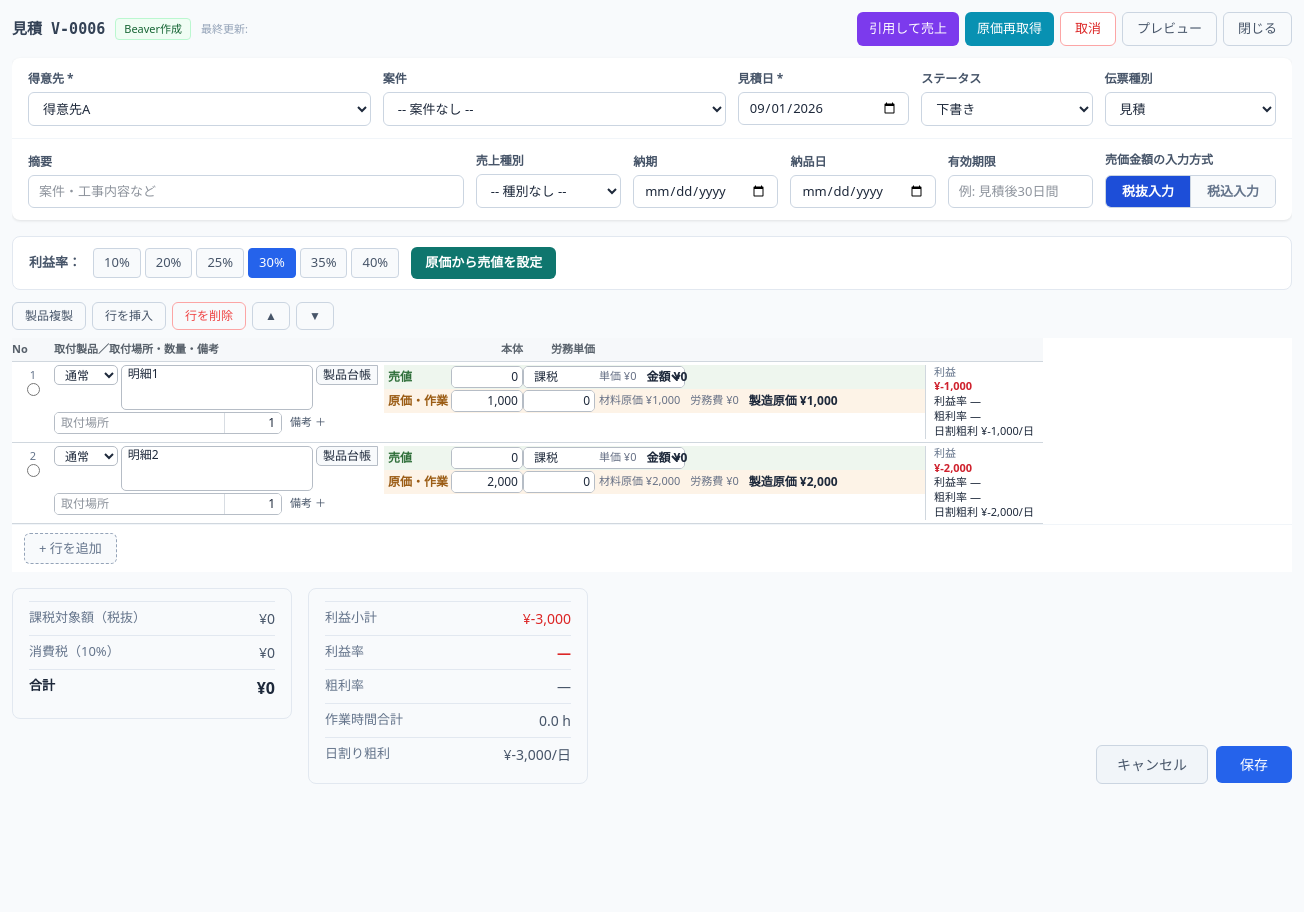
Test: VoucherEdit R-0145 (C) 原価から売値を設定ボタンの適用範囲 › 1行適用後、選択状態が次の行へ自動的に移る
This screenshot has width=1304, height=912.
Check: the 1st text box showing "明細1" is shown, box [121,364,313,410]
Click the radio button named "1行目を選択" at [33, 390], box [26,383,40,396]
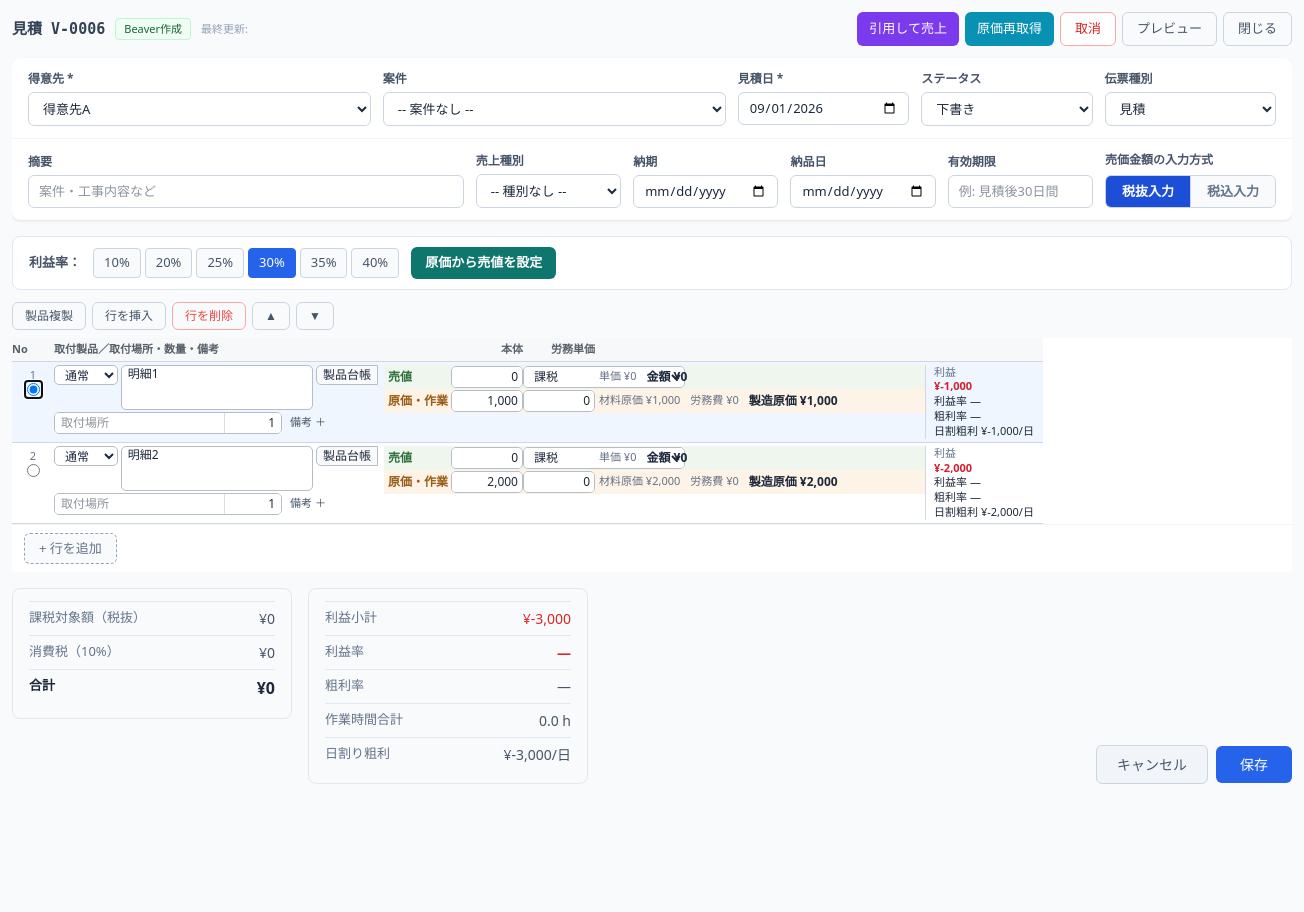
Click the button "原価から売値を設定" at [484, 263], box [411,247,556,278]
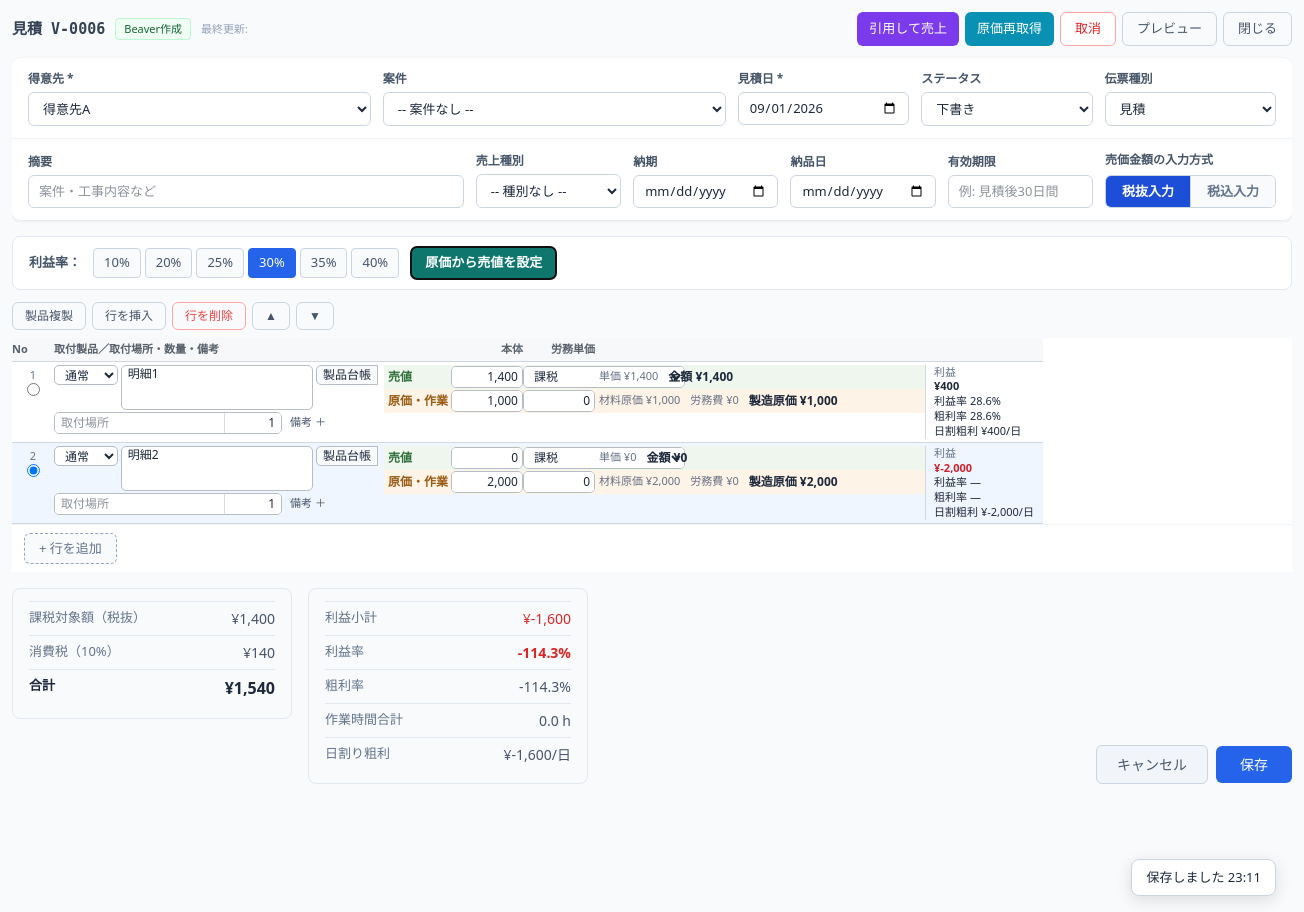
Check: the radio button named "1行目を選択" is not checked, box [26,383,40,396]
Check: the radio button named "2行目を選択" is checked, box [26,464,40,477]
